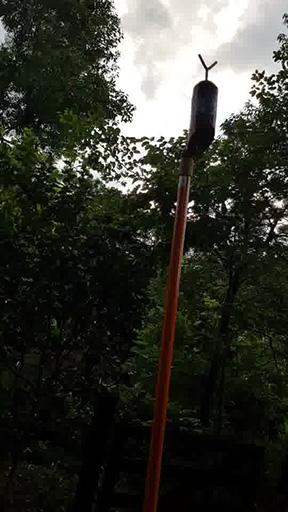Detector_Tensao_Contato: (186, 54, 221, 158)
Vara_Manobra: (147, 155, 195, 512)
